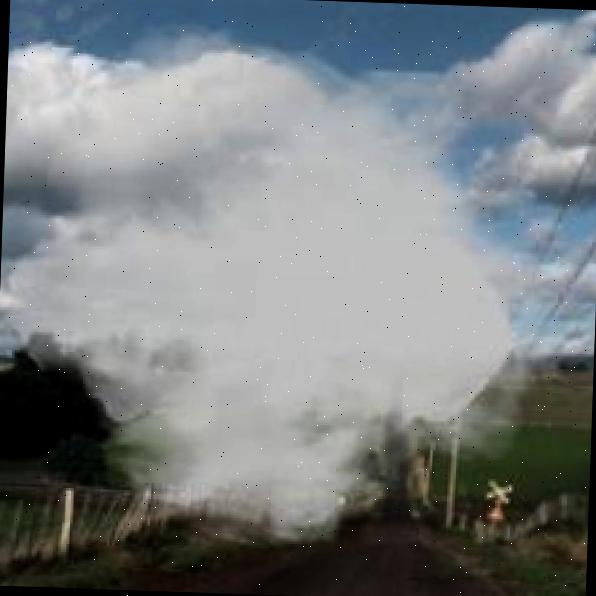smoke: (0, 11, 579, 564)
